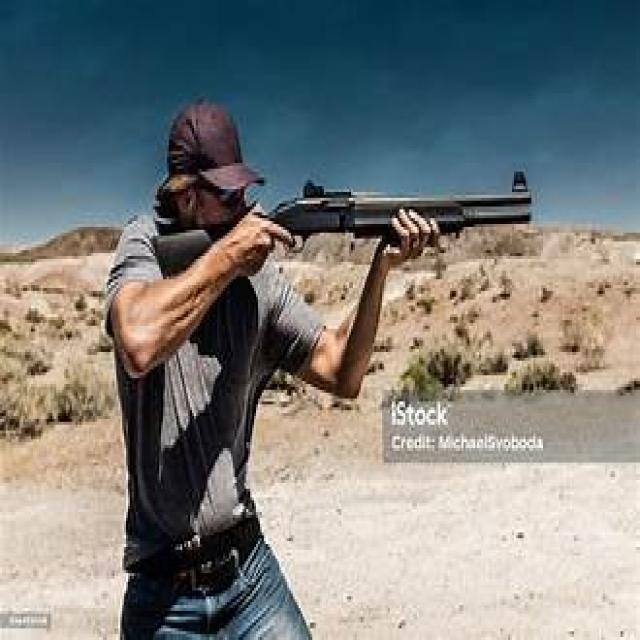Rifle: (142, 164, 548, 332)
